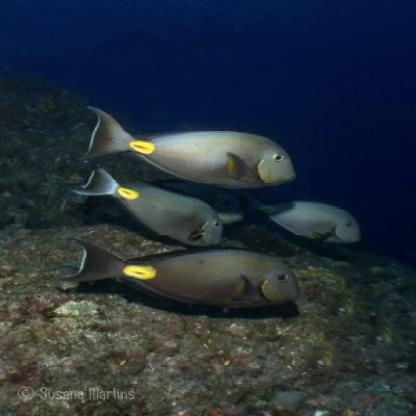surgeon: (83, 105, 298, 189), (65, 236, 302, 309), (79, 161, 224, 250), (236, 193, 362, 244)
